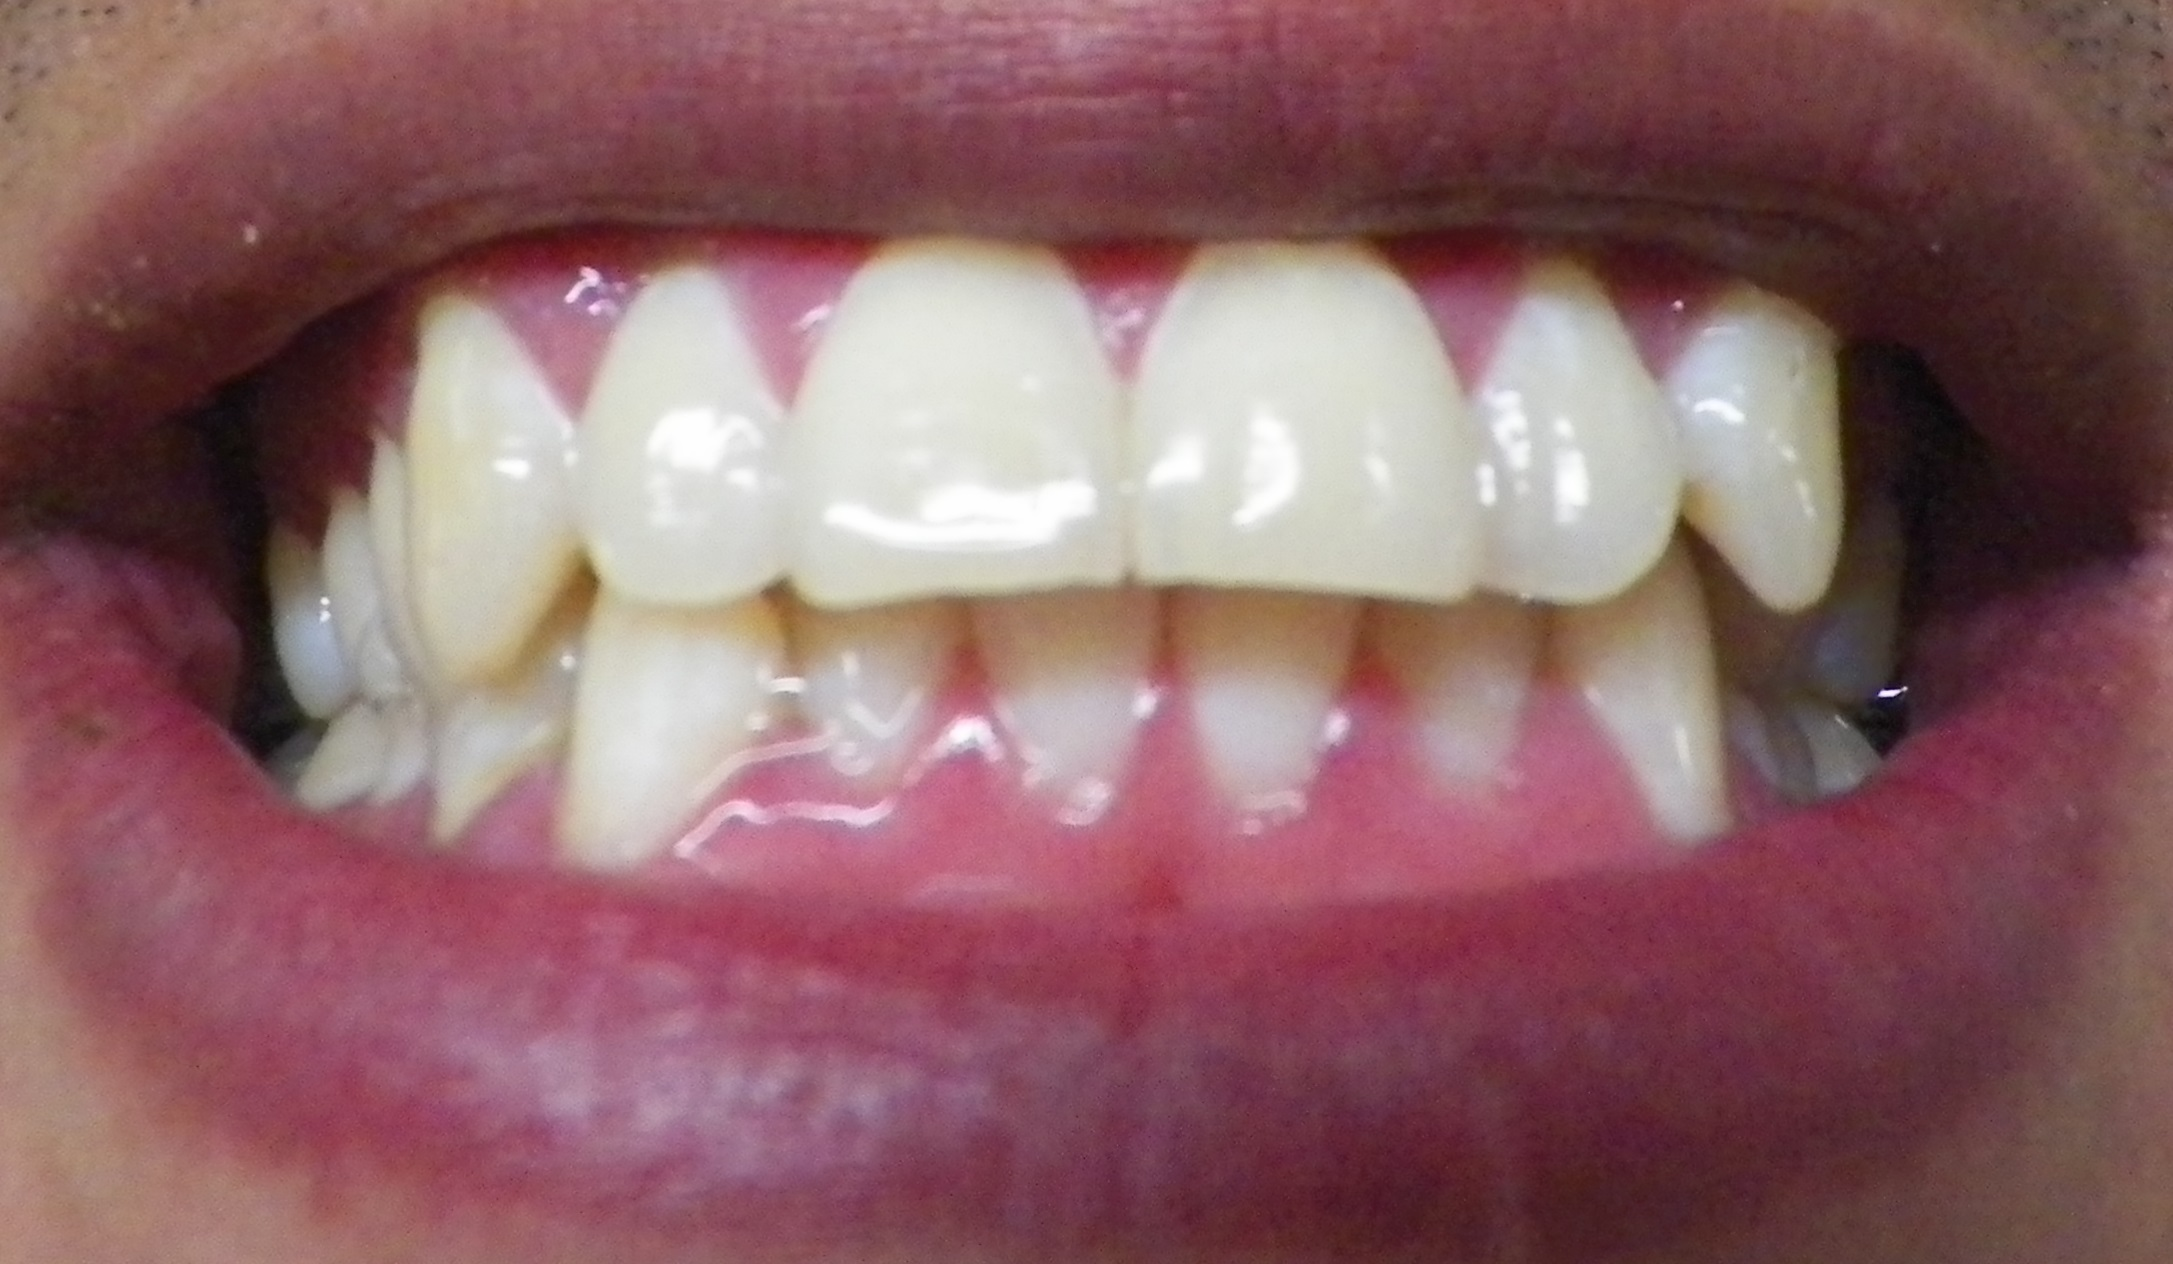boca: (260, 248, 1898, 867)
